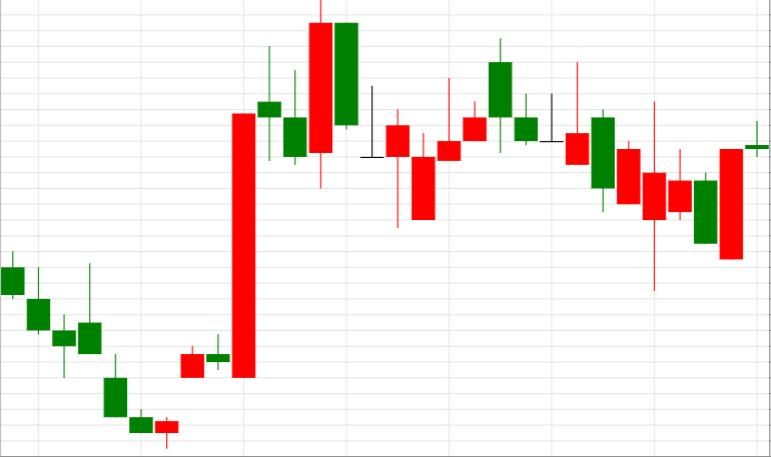bullish_engulfing_rise: (592, 102, 743, 291)
evening_star_fall: (155, 47, 307, 449)
